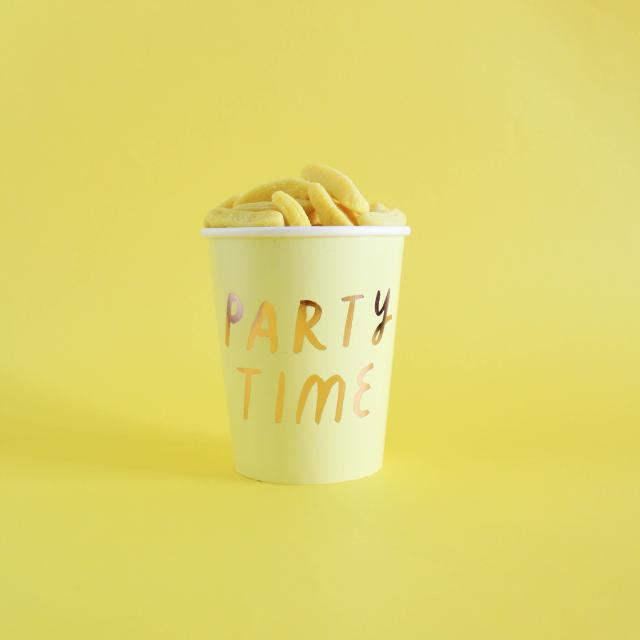cup: (200, 221, 411, 490)
